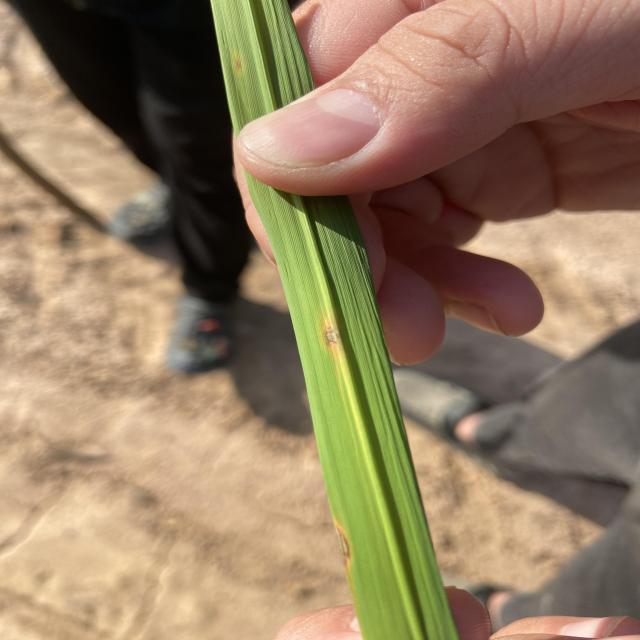Dao on: (335, 523, 352, 565), (323, 328, 339, 346)
